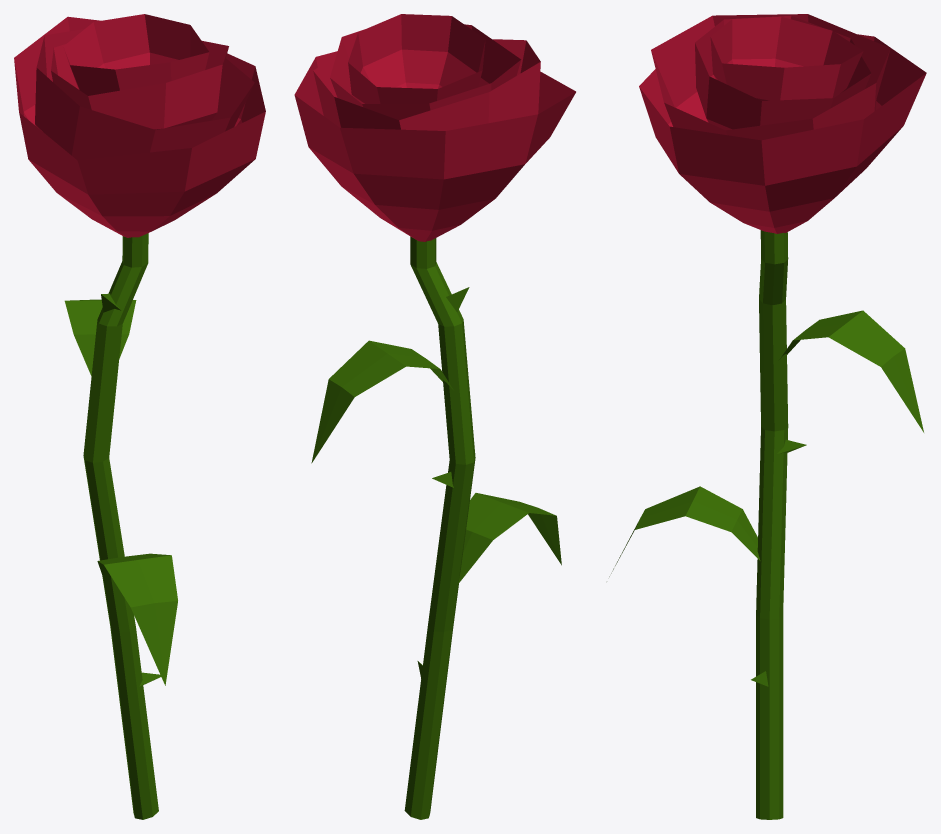
File: rose.fbx
3 views of the same model, side by side, from view 1: azimuth 30°, elevation 25°; view 2: azimuth 150°, elevation 25°; view 3: azimuth 270°, elevation 25° (orthographic).
Parts seen in each view (by area): view 1: rose; view 2: rose; view 3: rose.
Part boxes in pixels (x1,y1,x2,y2): rose: (14, 14, 265, 819); rose: (294, 14, 575, 819); rose: (609, 14, 926, 819).
Size of the model in its own units: 0.126 by 0.4081 by 0.152.
